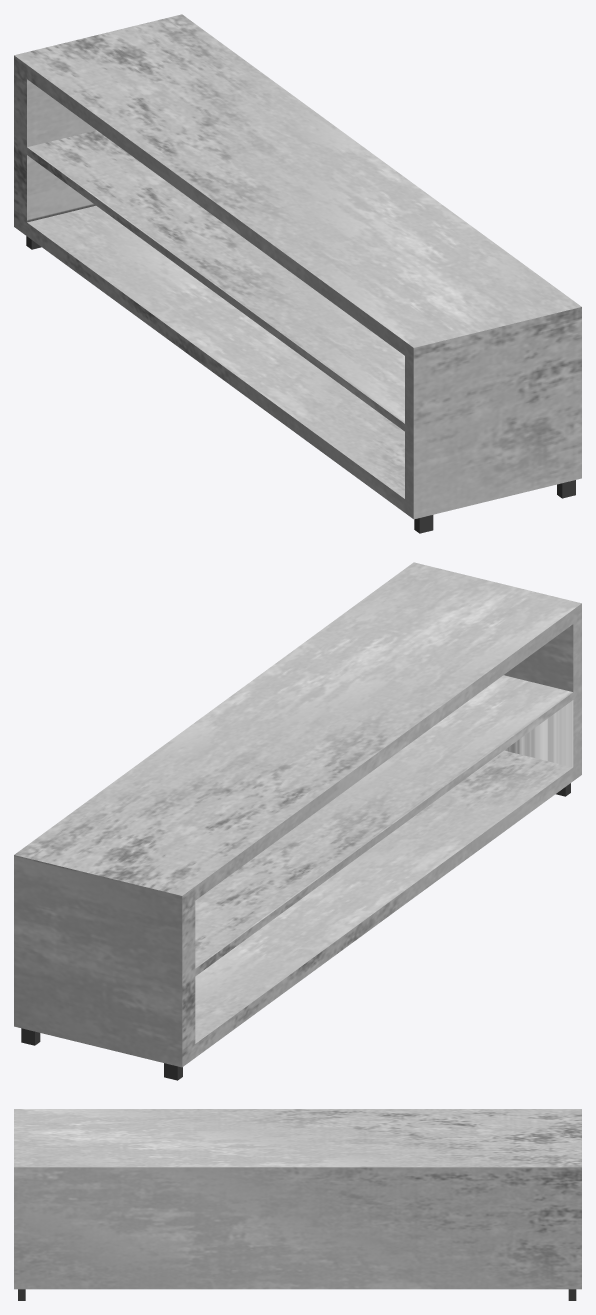
The model's file is bottom cupboard.fbx.
3 renders of one model, top to bottom at view 1: azimuth 30°, elevation 25°; view 2: azimuth 150°, elevation 25°; view 3: azimuth 270°, elevation 25°, orthographic. The views are drawn at different scales.
Parts seen in each view (by area): view 1: bottom_cupboard1; view 2: bottom_cupboard1; view 3: bottom_cupboard1.
Part boxes in pixels (x1,y1,x2,y2): bottom_cupboard1: (14,14,581,533); bottom_cupboard1: (14,562,581,1080); bottom_cupboard1: (14,1109,581,1300).
Bounding box in the file's own units: 23.18 × 24.97 × 95.44.
